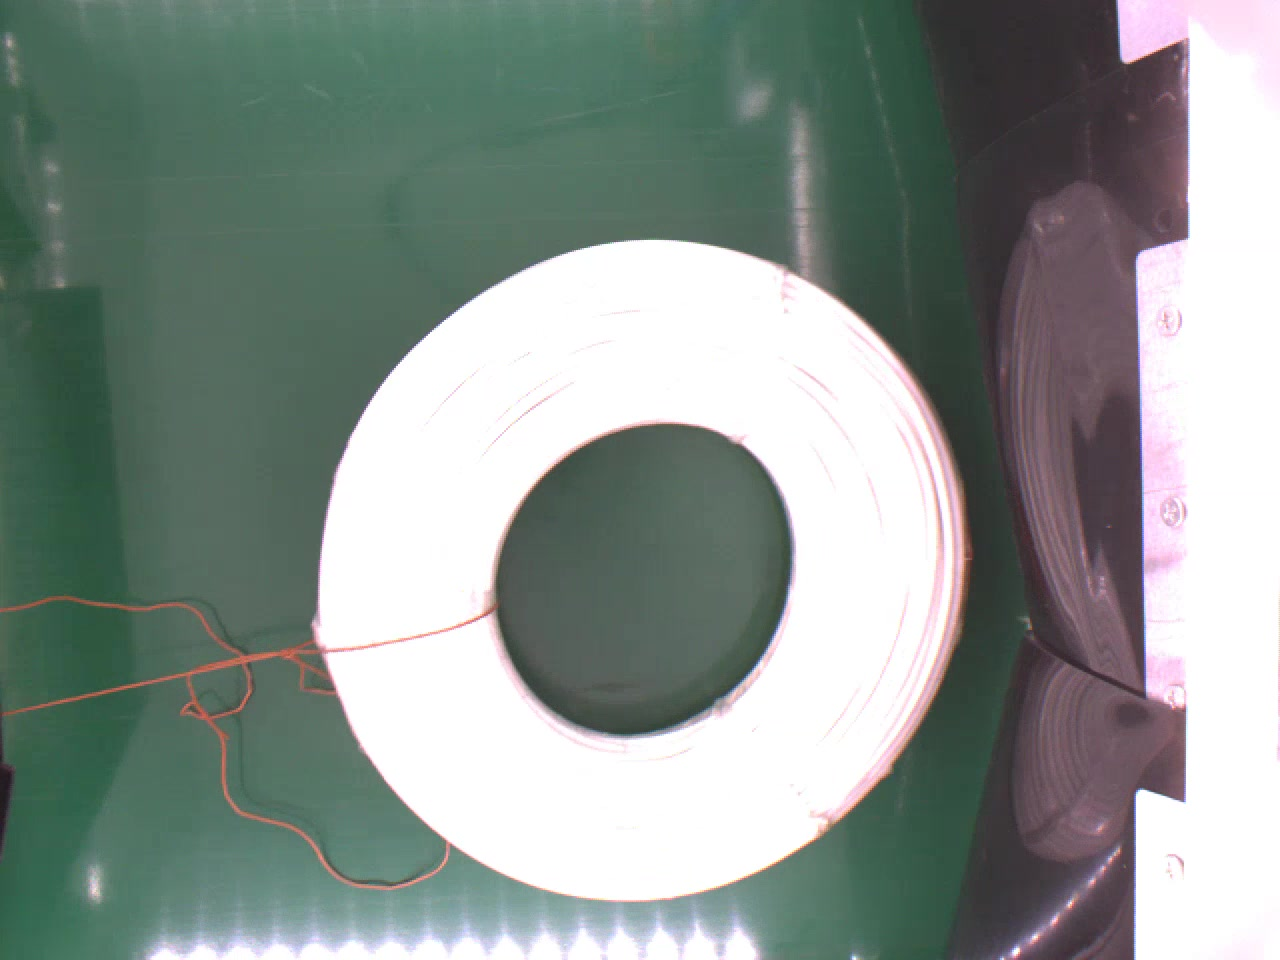white: (313, 224, 978, 902)
